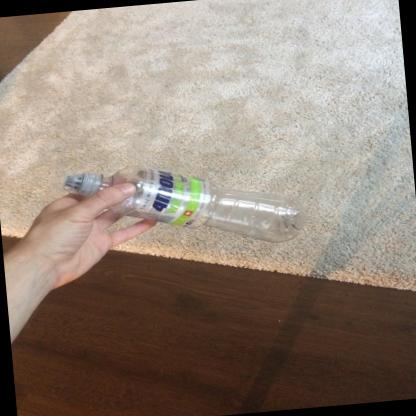Plastic: (63, 165, 307, 243)
